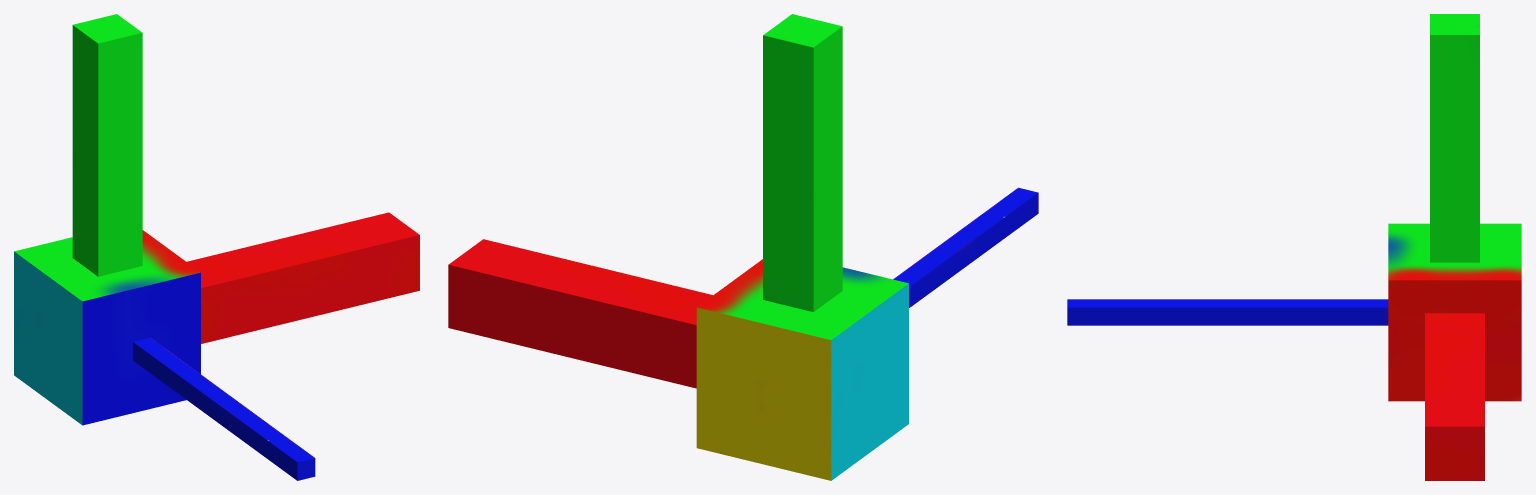
File: coords.obj
The picture shows the model from 3 angles, left to right: view 1: azimuth 30°, elevation 25°; view 2: azimuth 150°, elevation 25°; view 3: azimuth 270°, elevation 25°; orthographic projection. The views are drawn at different scales.
Visible parts, largest first — view 1: Mesh; view 2: Mesh; view 3: Mesh.
Part boxes in pixels (bbox=[...]): Mesh: bbox=[14, 14, 419, 480]; Mesh: bbox=[448, 14, 1038, 480]; Mesh: bbox=[1067, 14, 1521, 480].
Bounding box in the file's own units: 3.01 × 2.88 × 3.4.
